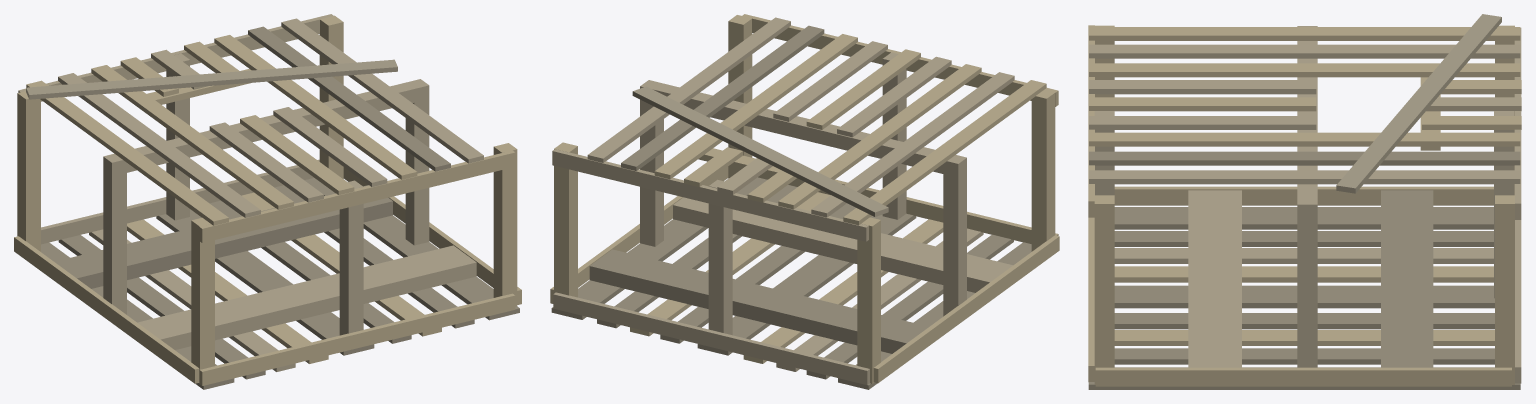
The model's file is lobster_trap_incomplete.glb.
The picture shows the model from 3 angles, left to right: view 1: azimuth 30°, elevation 25°; view 2: azimuth 150°, elevation 25°; view 3: azimuth 270°, elevation 25°; orthographic projection. The views are drawn at different scales.
Visible parts, largest first — view 1: LobsterTrapWood1; view 2: LobsterTrapWood1; view 3: LobsterTrapWood1.
Boxes of the visible parts, x1,y1,x2,y2 form: LobsterTrapWood1: (14,14,521,389); LobsterTrapWood1: (550,14,1059,389); LobsterTrapWood1: (1088,14,1521,389).
Bounding box in the file's own units: 0.986 × 0.4916 × 0.9824.
